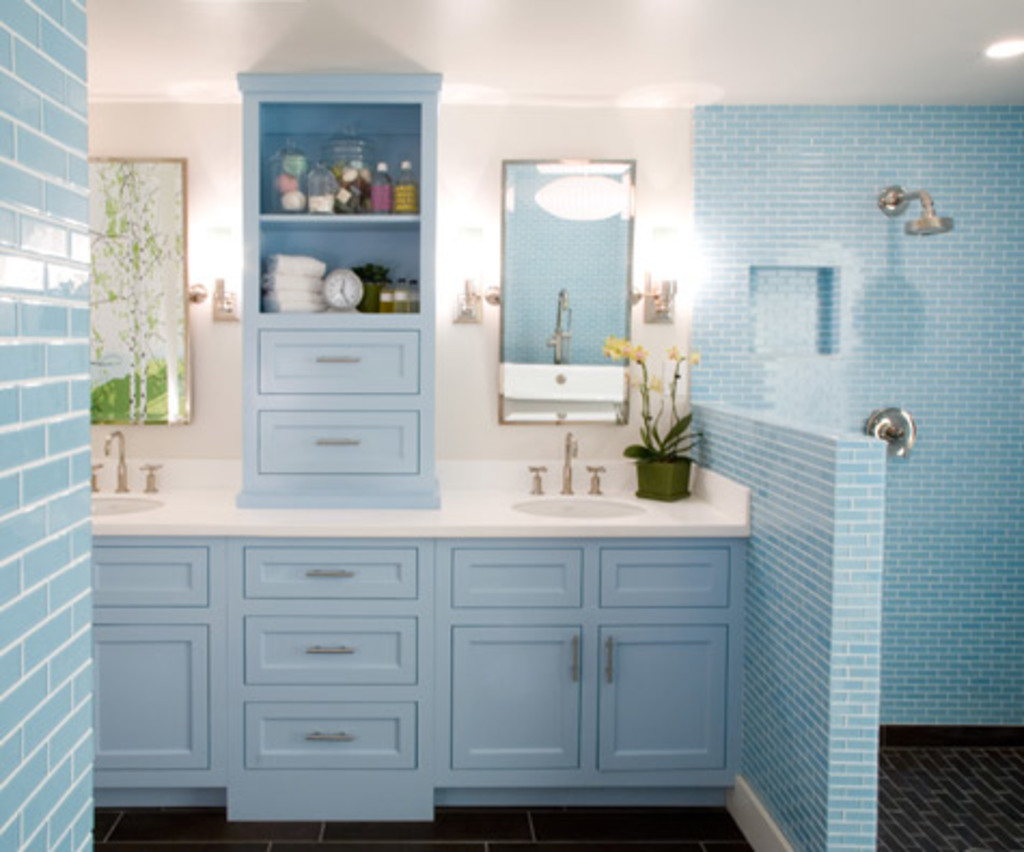cabinet door: (447, 627, 582, 763), (604, 630, 723, 767), (92, 626, 206, 761), (257, 620, 408, 692), (258, 706, 403, 770), (268, 413, 415, 472), (262, 335, 410, 388), (253, 553, 407, 601)
handle: (306, 729, 354, 753), (562, 632, 582, 675), (306, 641, 355, 658), (316, 353, 358, 372), (601, 638, 617, 684), (310, 569, 356, 585), (322, 435, 362, 452)
